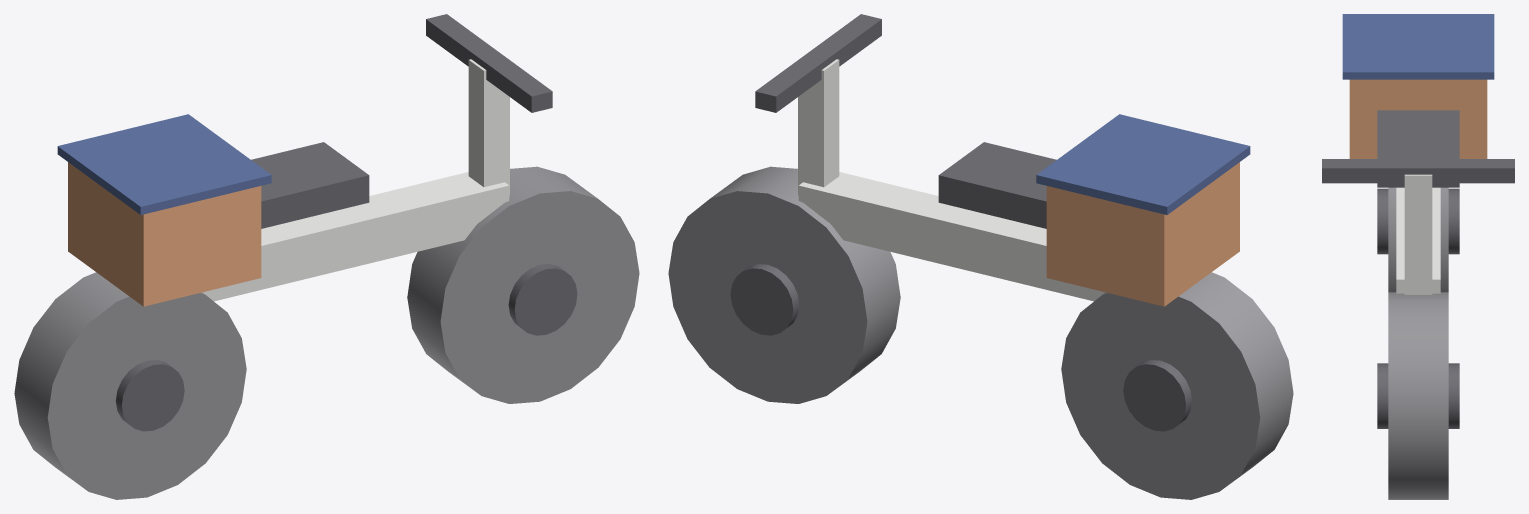
Rendered from bike.glb.
3 renders of one model, left to right at view 1: azimuth 30°, elevation 25°; view 2: azimuth 150°, elevation 25°; view 3: azimuth 270°, elevation 25°, orthographic. The views are drawn at different scales.
Visible parts, largest first — view 1: rover; view 2: rover; view 3: rover.
Boxes of the visible parts, box(x1,y1,x2,y2) form: rover: box(14, 14, 639, 499); rover: box(668, 14, 1293, 499); rover: box(1322, 14, 1514, 499).
Size of the model in its own units: 2.26 by 1.25 by 0.7.
